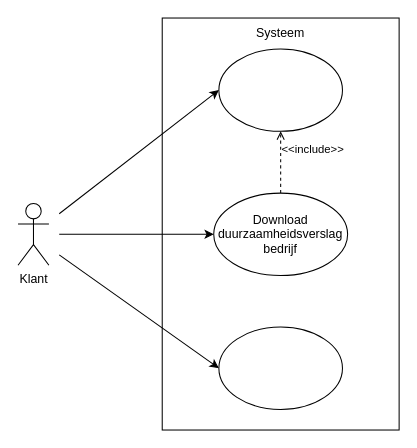
The diagram is 417 pixels wide and 448 high, and some of its shapes have lost their labels. The shapes that lost their labels are listed below. From the top down, each one's centre as x and y in pixels, then its label:
At point 280,89: "Bekijk info bedrijf".
At point 280,367: "Bekijk info sector".
